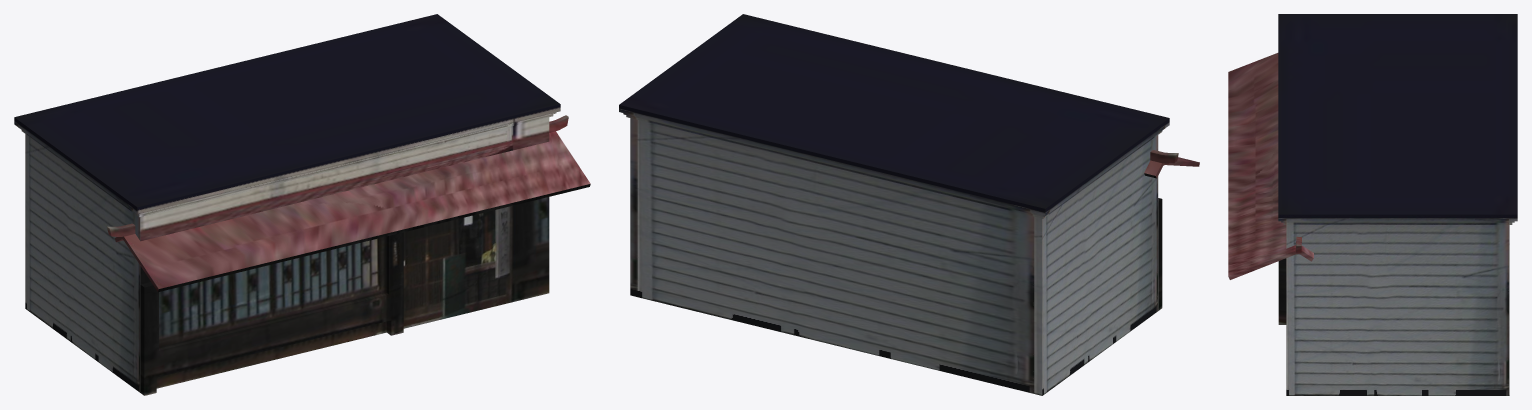
Rendered from house_under2.dae.
3 views of the same model, side by side, from view 1: azimuth 30°, elevation 25°; view 2: azimuth 150°, elevation 25°; view 3: azimuth 270°, elevation 25° (orthographic). The views are drawn at different scales.
Parts seen in each view (by area): view 1: 立方体; view 2: 立方体; view 3: 立方体.
Boxes of the visible parts, <box> form: 立方体: <box>14,14,590,395</box>; 立方体: <box>619,14,1199,395</box>; 立方体: <box>1228,14,1517,395</box>.
Bounding box in the file's own units: 630 × 250 × 354.
Materials: 1 (1 with a texture image).
